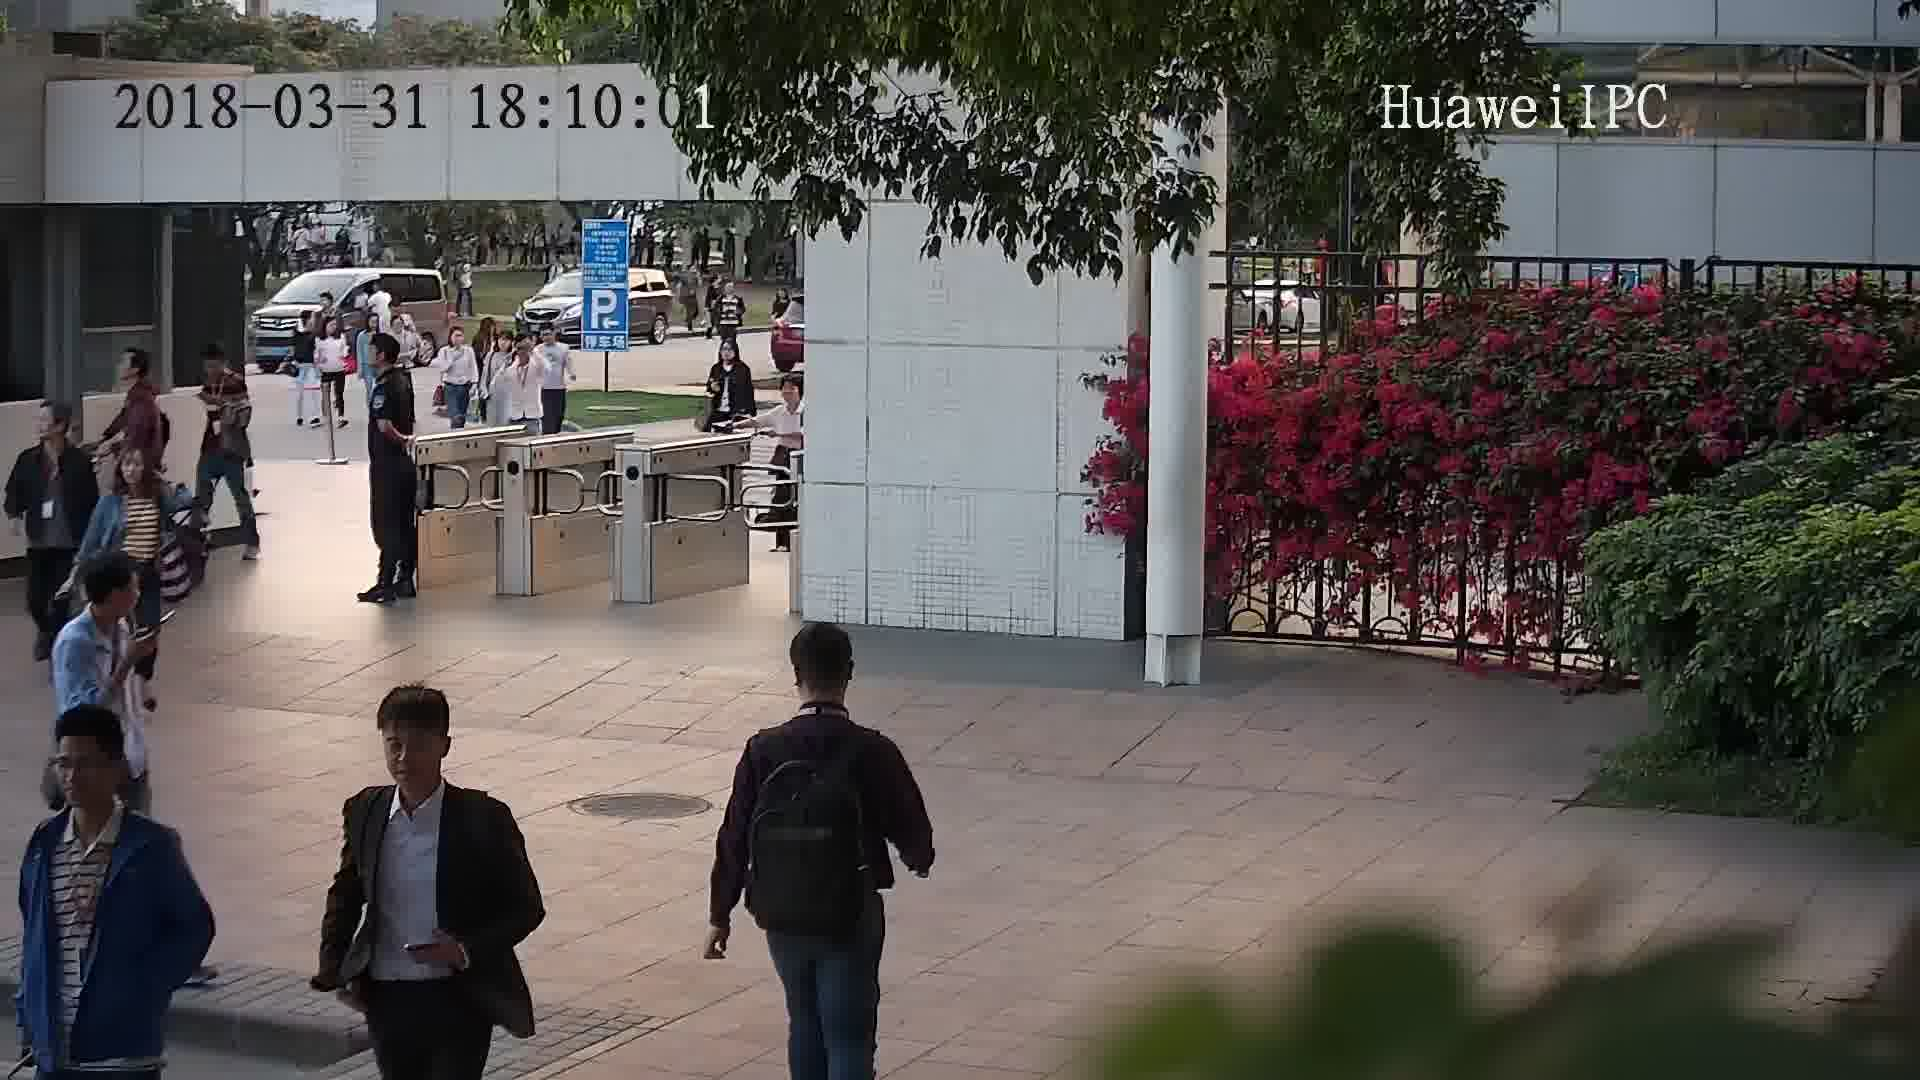face: (47, 735, 122, 811), (376, 715, 448, 787)
person: (24, 704, 181, 866), (344, 684, 509, 838), (742, 620, 898, 771), (55, 557, 141, 659), (16, 400, 94, 478), (101, 440, 176, 509), (116, 342, 158, 413), (196, 340, 246, 398), (365, 334, 411, 396), (503, 331, 554, 380), (770, 370, 810, 427), (712, 332, 753, 379), (434, 322, 474, 364), (535, 325, 570, 357), (483, 328, 517, 361), (382, 312, 421, 342), (316, 315, 345, 351), (715, 280, 748, 309), (356, 313, 386, 343), (290, 306, 318, 339)
